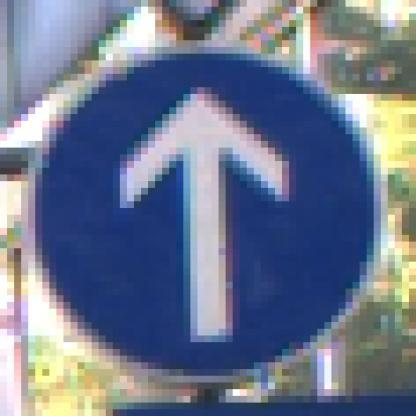straight: (28, 47, 402, 369)
